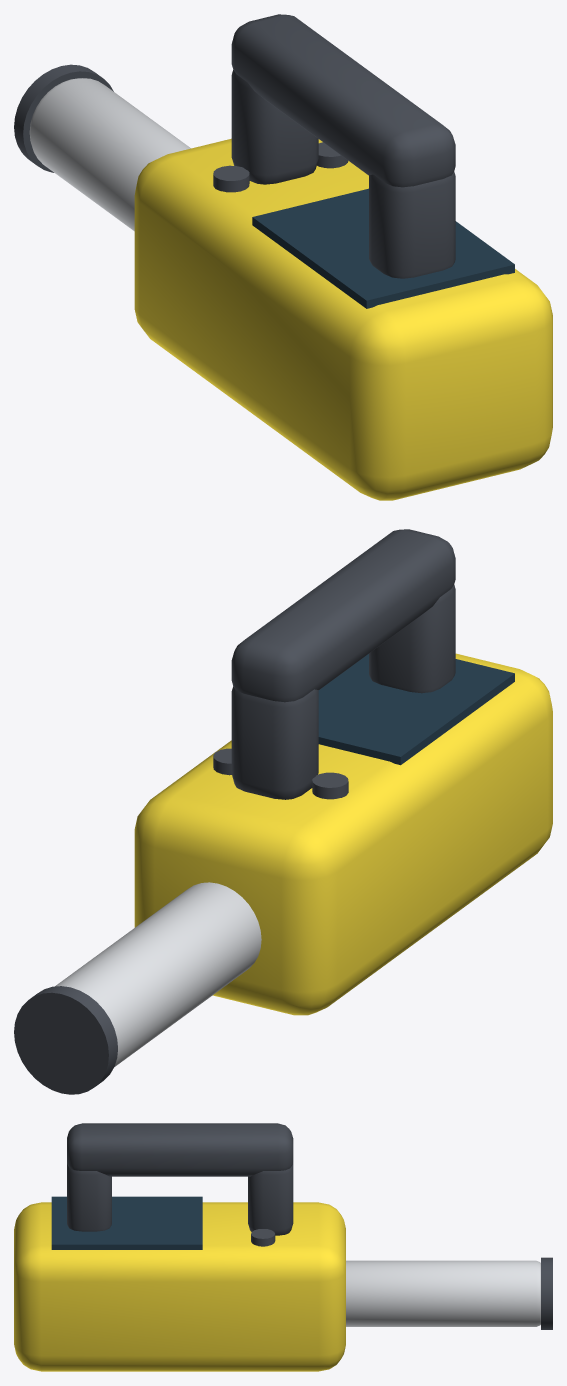
The model's file is SurveyMeter.fbx.
3 renders of one model, top to bottom at view 1: azimuth 30°, elevation 25°; view 2: azimuth 150°, elevation 25°; view 3: azimuth 270°, elevation 25°, orthographic. The views are drawn at different scales.
Parts seen in each view (by area): view 1: SM_Body, SM_Handle, SM_Probe, SM_Display, SM_ProbeWindow, SM_Button0; view 2: SM_Body, SM_Handle, SM_Probe, SM_Display, SM_ProbeWindow, SM_Button0; view 3: SM_Body, SM_Handle, SM_Probe, SM_Display, SM_ProbeWindow, SM_Button2.
Boxes of the visible parts, x1,y1,x2,y2 form: SM_Body: (134,138,552,500); SM_Handle: (231,14,455,278); SM_Probe: (29,78,190,231); SM_Display: (252,188,514,308); SM_ProbeWindow: (14,64,113,172); SM_Button0: (213,165,249,192); SM_Body: (134,653,552,1015); SM_Handle: (231,529,455,799); SM_Probe: (55,882,261,1066); SM_Display: (318,654,514,765); SM_ProbeWindow: (14,986,117,1094); SM_Button0: (312,772,348,799); SM_Body: (14,1202,345,1371); SM_Handle: (67,1123,293,1235); SM_Probe: (346,1260,540,1326); SM_Display: (51,1196,202,1249); SM_ProbeWindow: (541,1257,552,1329); SM_Button2: (251,1229,275,1246).
Size of the model in its own units: 0.1 by 0.16 by 0.357.
